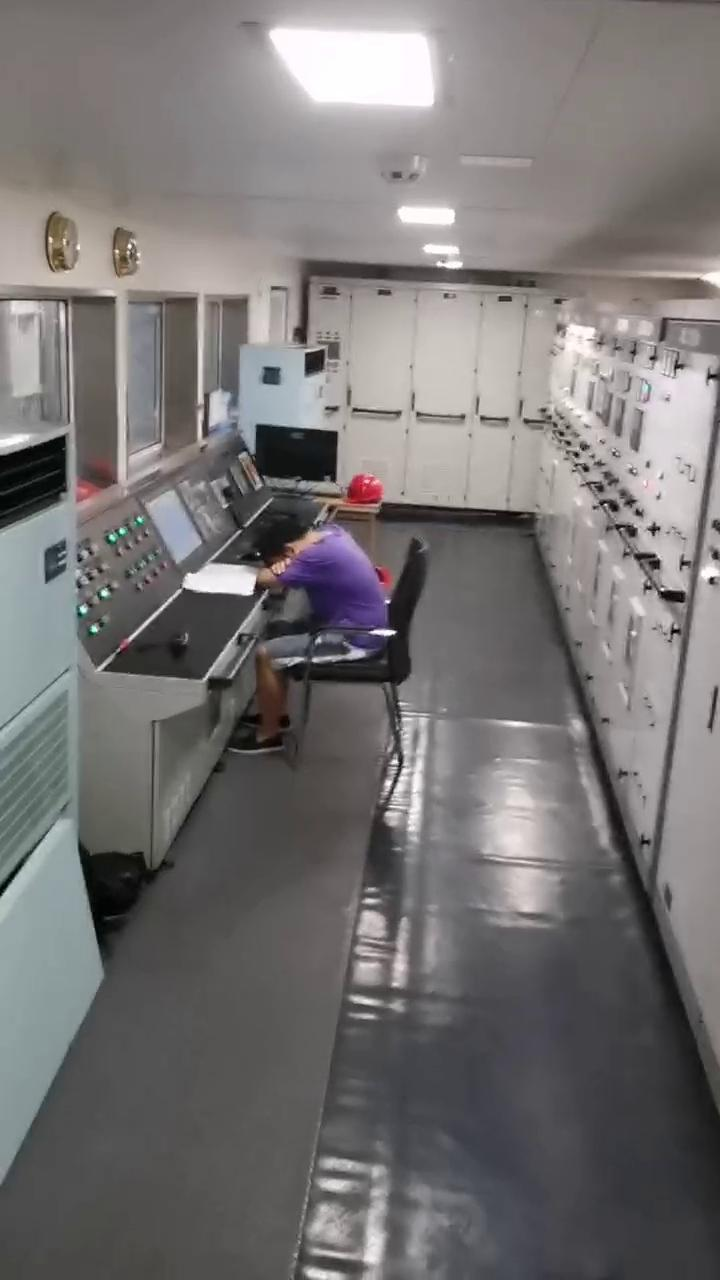sleep: (237, 517, 398, 668)
